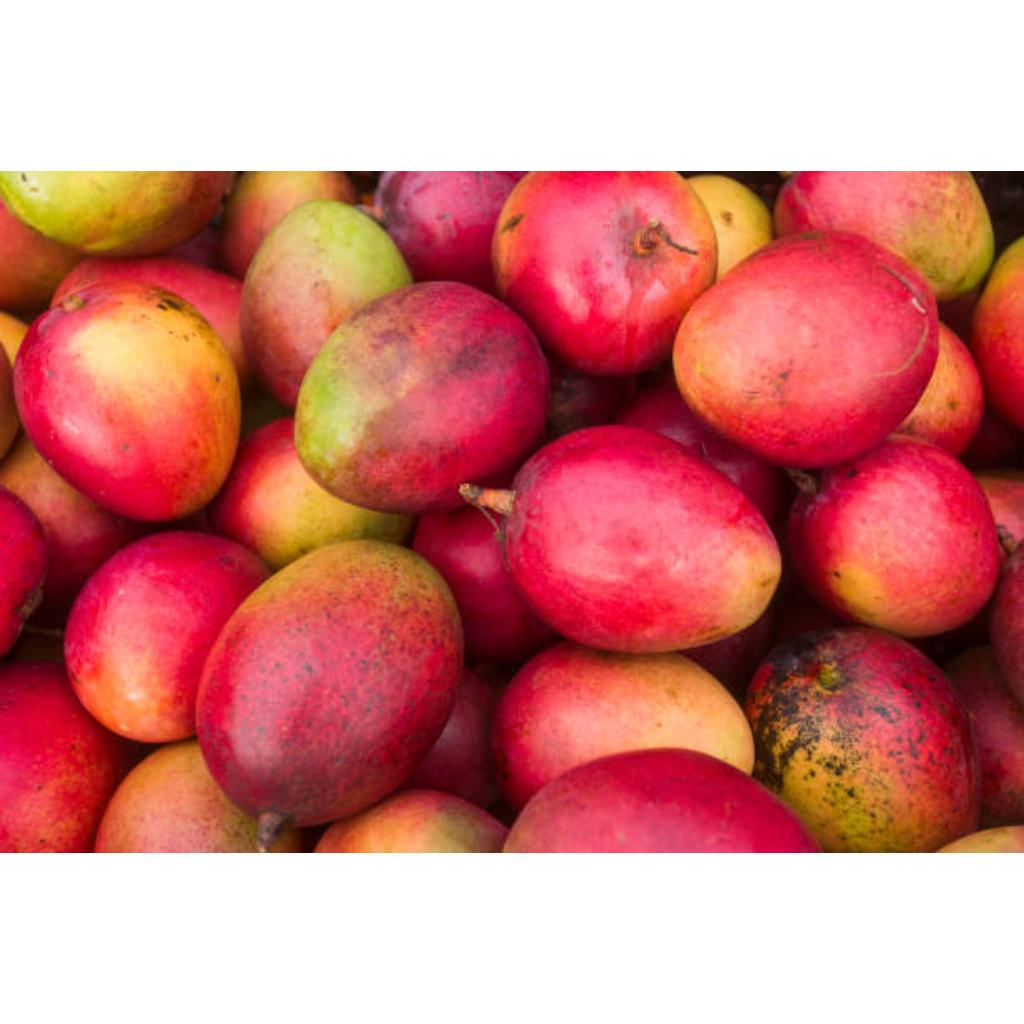mango: (196, 541, 464, 850), (460, 425, 780, 652), (674, 233, 938, 468), (294, 283, 548, 512), (16, 281, 240, 521), (746, 629, 980, 853), (492, 171, 716, 375), (494, 643, 754, 810), (64, 533, 270, 742), (788, 437, 998, 637), (504, 749, 820, 853), (210, 417, 414, 570), (774, 171, 994, 300), (0, 665, 136, 852), (94, 741, 256, 854)
